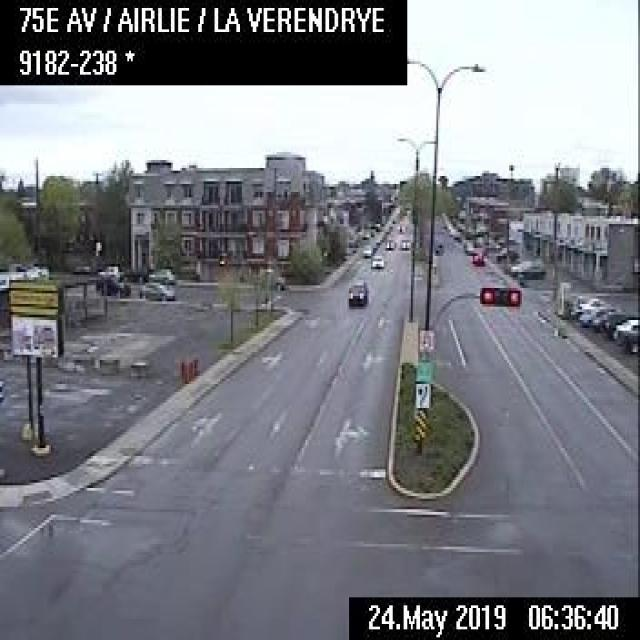construction: (187, 359, 192, 378), (191, 356, 196, 374), (179, 358, 183, 379), (183, 362, 187, 382)
vehicle: (572, 293, 608, 317), (509, 255, 546, 278), (251, 265, 283, 290), (93, 275, 131, 296), (136, 280, 176, 299), (346, 278, 368, 307), (602, 313, 628, 336), (579, 307, 613, 324), (616, 324, 637, 350), (612, 316, 638, 336), (148, 263, 174, 280), (97, 264, 124, 276), (368, 252, 384, 270), (496, 245, 516, 259), (471, 252, 486, 266), (398, 238, 410, 250), (360, 242, 370, 254), (383, 235, 392, 248), (464, 241, 474, 252), (396, 220, 404, 231)
